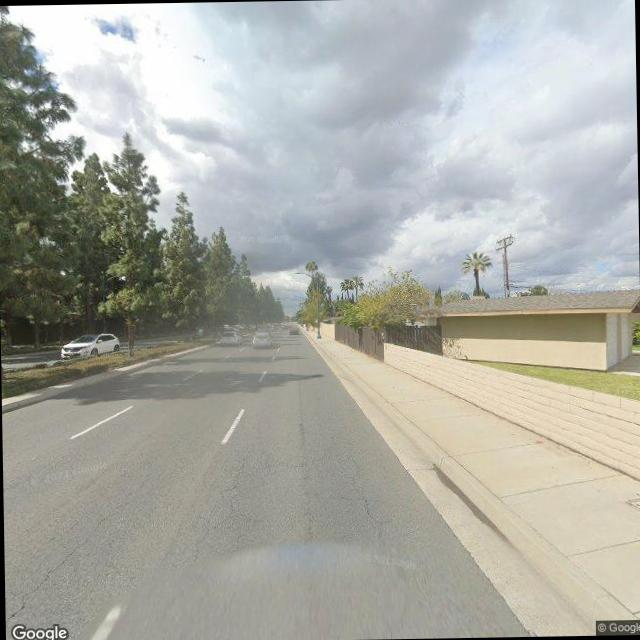pothole: (3, 512, 118, 626), (188, 454, 251, 560)
